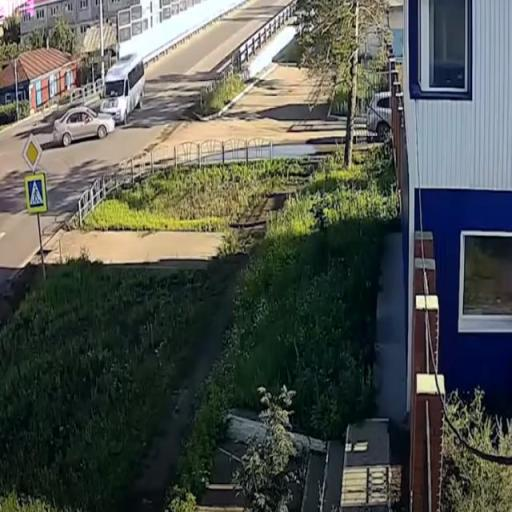小汽车撞小汽车: (54, 51, 154, 149)
